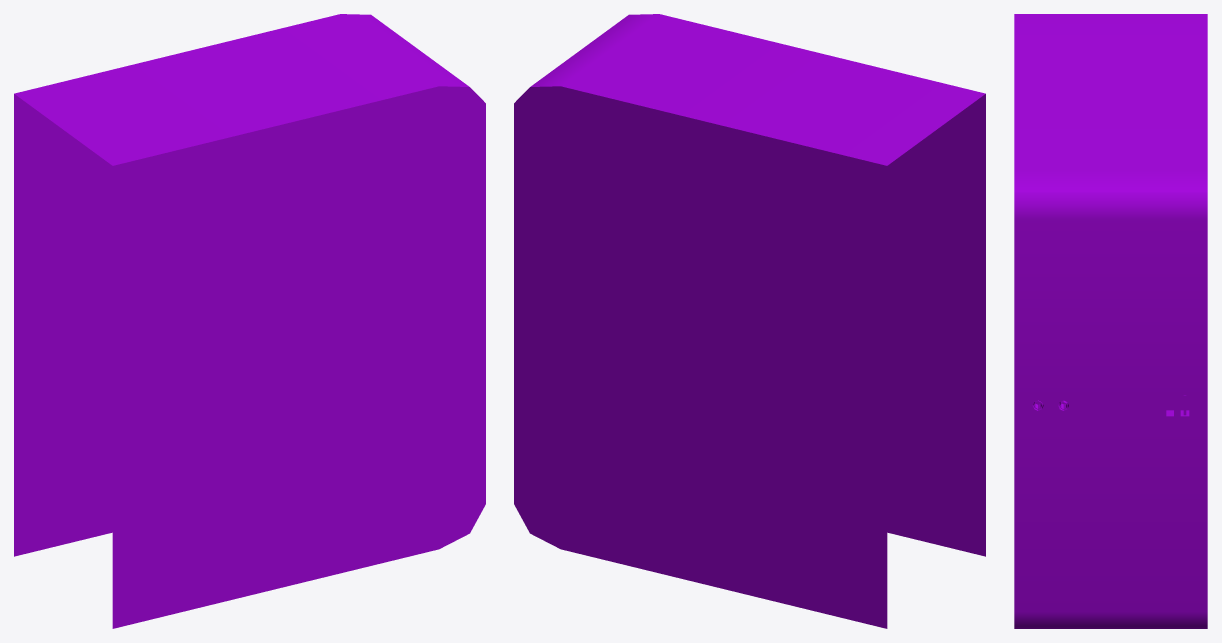
File: sm_computer_desktop_low.fbx
The picture shows the model from 3 angles, left to right: view 1: azimuth 30°, elevation 25°; view 2: azimuth 150°, elevation 25°; view 3: azimuth 270°, elevation 25°; orthographic projection. The views are drawn at different scales.
Visible parts, largest first — view 1: pCube11; view 2: pCube11; view 3: pCube11.
Part boxes in pixels (bbox=[...]): pCube11: bbox=[14, 14, 485, 628]; pCube11: bbox=[514, 14, 985, 628]; pCube11: bbox=[1014, 14, 1207, 628].
Size of the model in its own units: 124 by 147 by 56.9.
